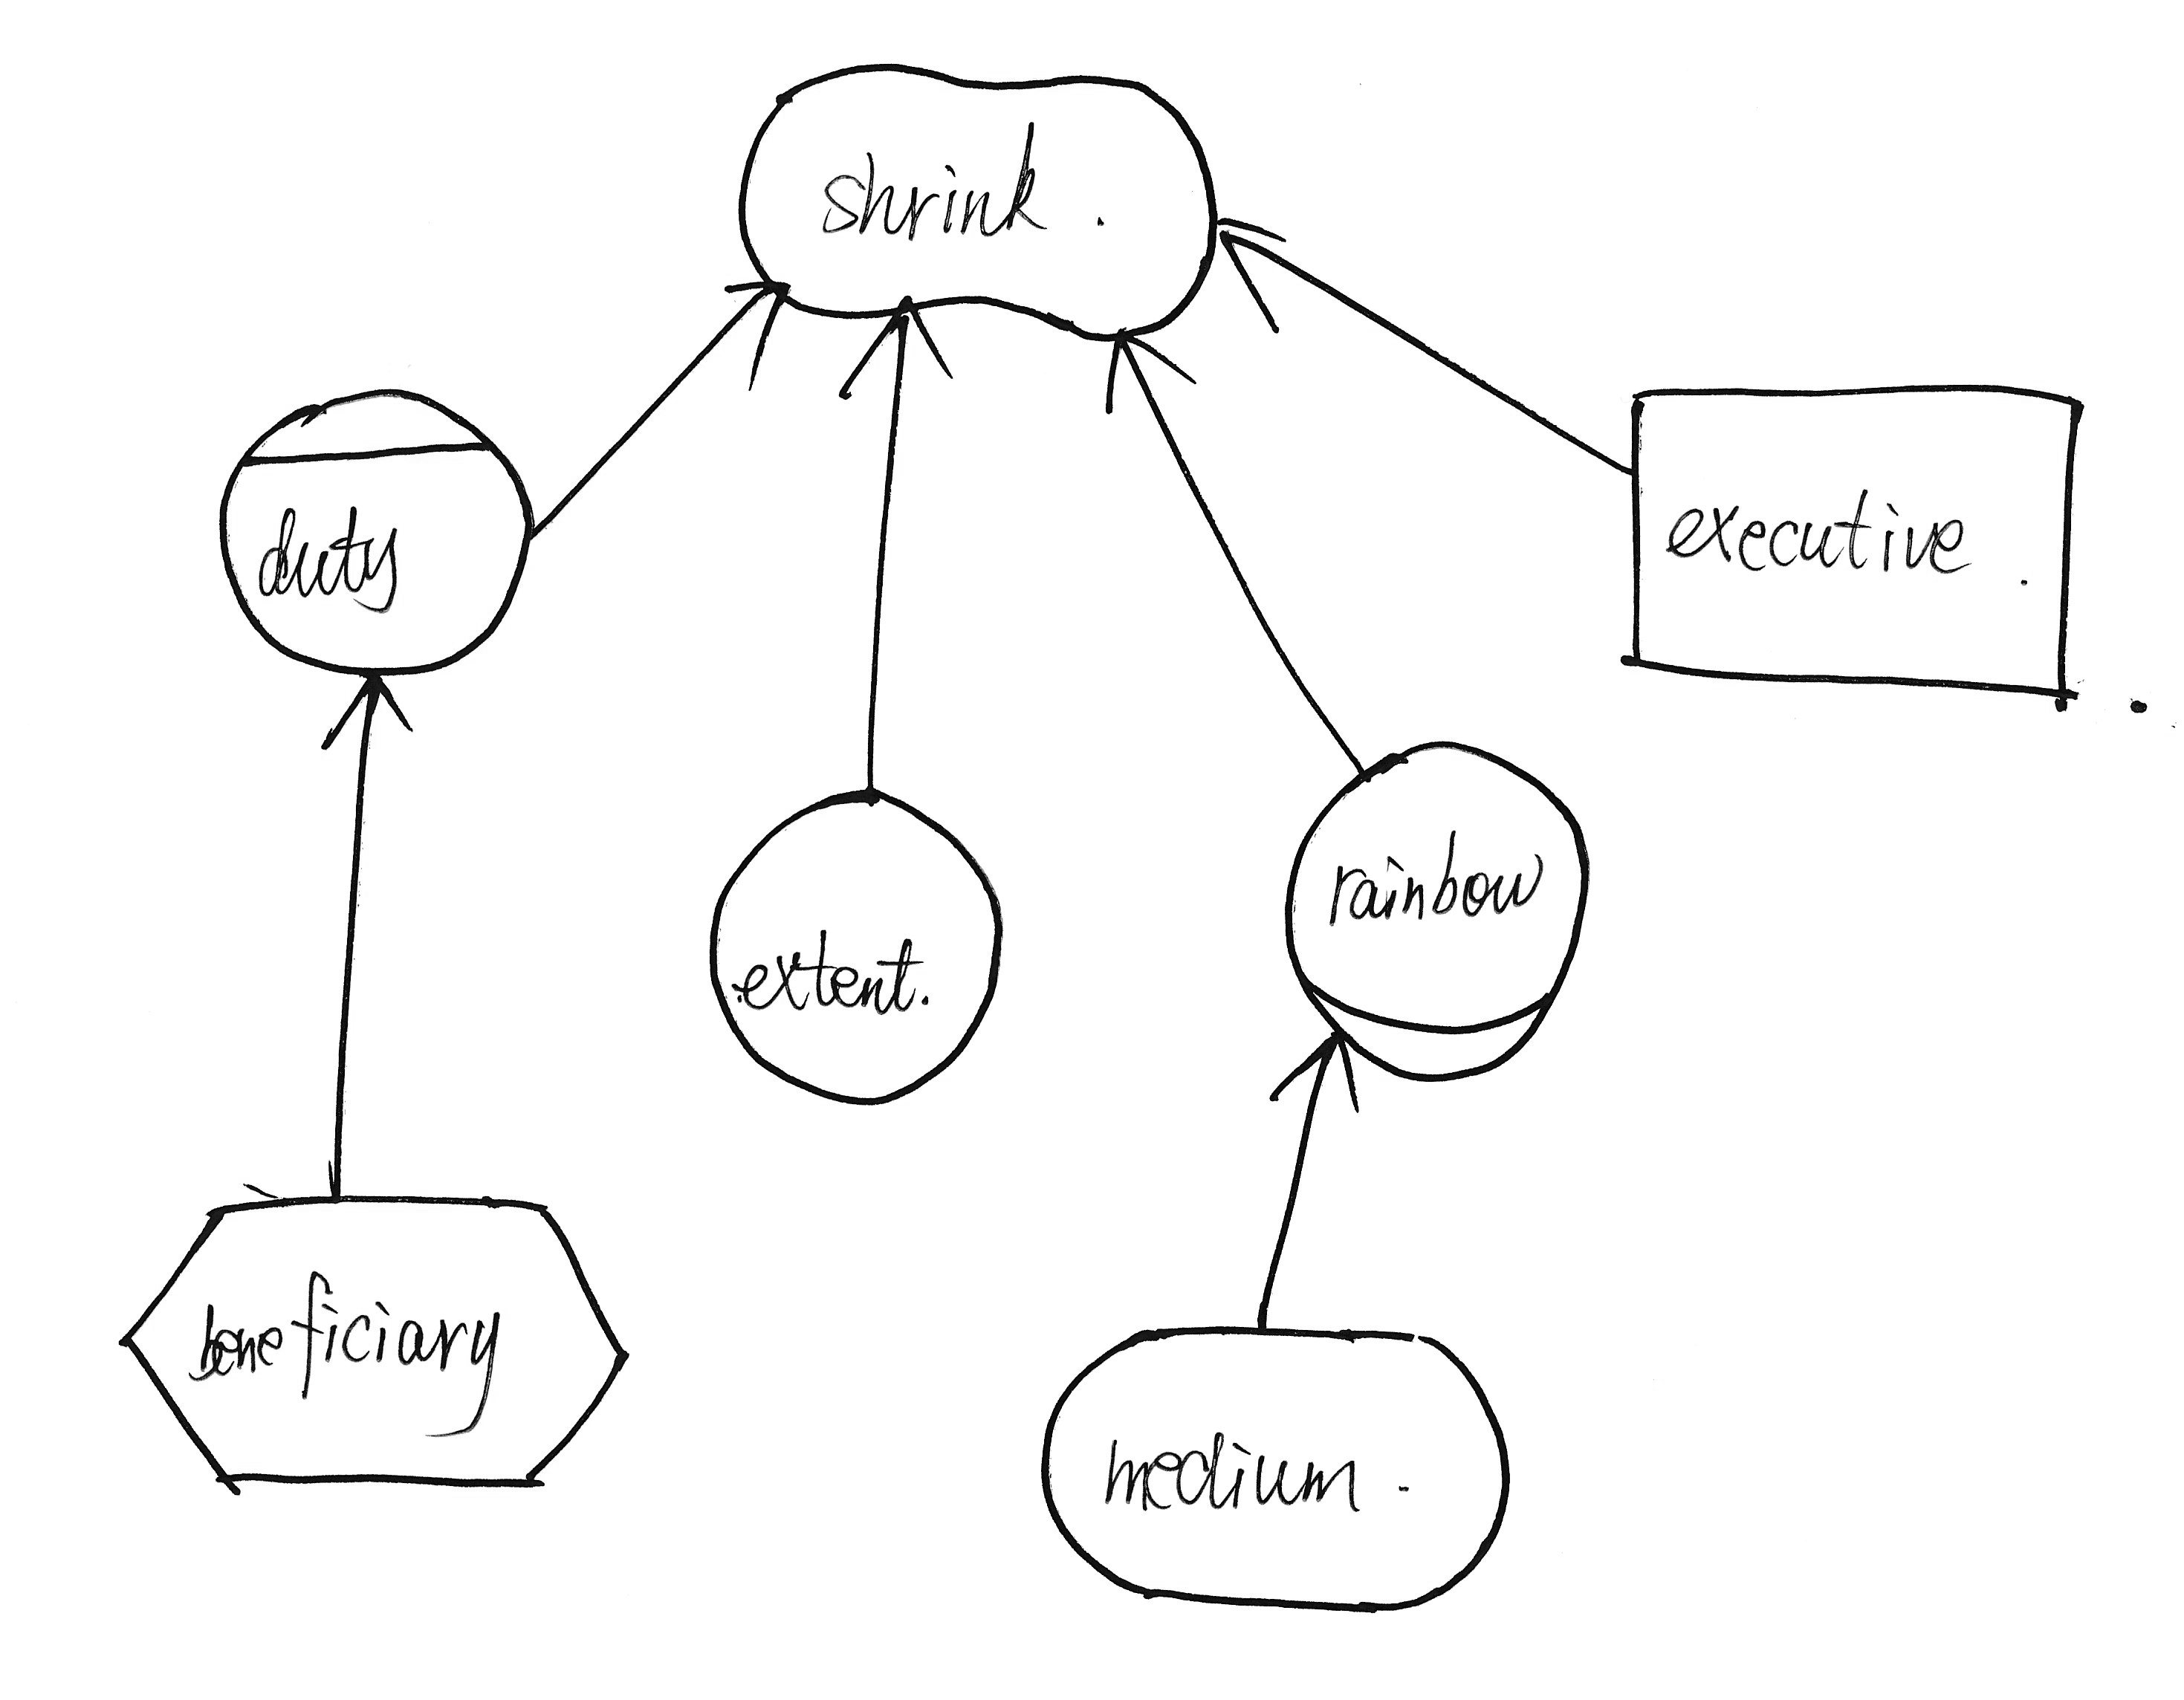actor: (690, 776, 1019, 1119)
agent: (206, 363, 557, 695)
arrow: (1200, 181, 1305, 351), (833, 280, 957, 420), (1080, 314, 1211, 429), (1250, 1018, 1372, 1129), (709, 253, 798, 406), (312, 658, 431, 766)
goal: (1012, 1308, 1526, 1636)
quality: (721, 50, 1232, 358)
resource: (1595, 356, 2102, 721)
role: (1269, 721, 1603, 1099)
task: (97, 1161, 645, 1516)
